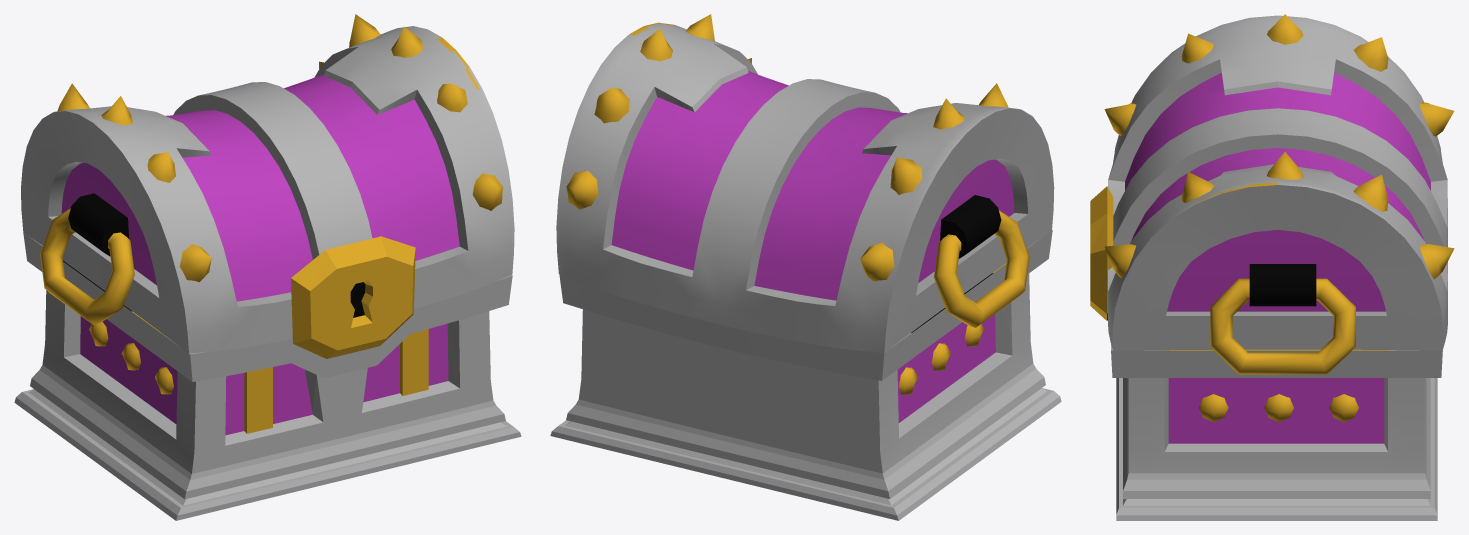
The model's file is chest1.dae.
The picture shows the model from 3 angles, left to right: view 1: azimuth 30°, elevation 25°; view 2: azimuth 150°, elevation 25°; view 3: azimuth 270°, elevation 25°; orthographic projection.
Visible parts, largest first — view 1: Object002; view 2: Object002; view 3: Object002.
Boxes of the visible parts, x1,y1,x2,y2 form: Object002: (14, 14, 521, 520); Object002: (550, 14, 1061, 520); Object002: (1090, 14, 1454, 520).
Bounding box in the file's own units: 0.2924 × 0.2349 × 0.2518.
1 material, 1 textured.
